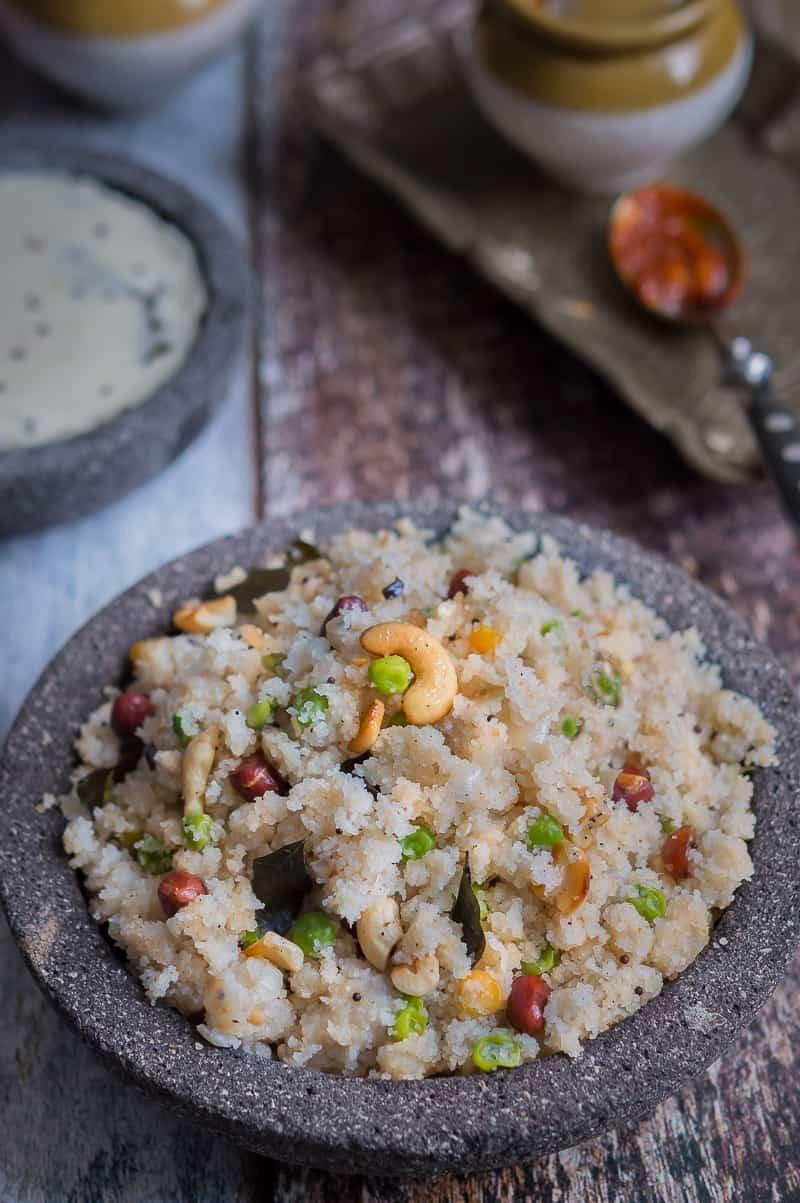upma: (54, 511, 765, 1095)
